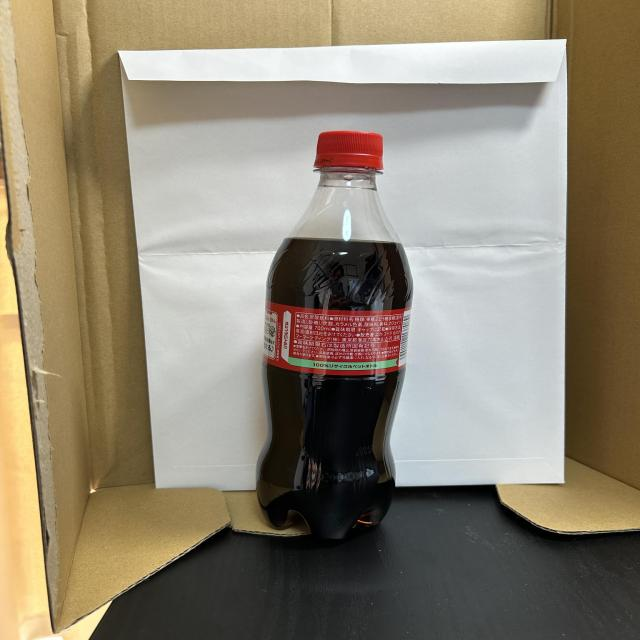high: (257, 131, 412, 539)
